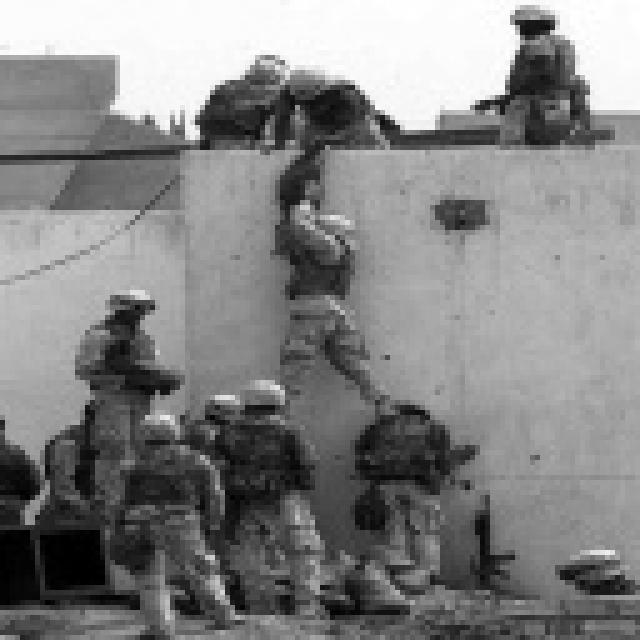Rifle: (454, 476, 546, 627), (94, 349, 219, 423), (424, 82, 553, 133)
